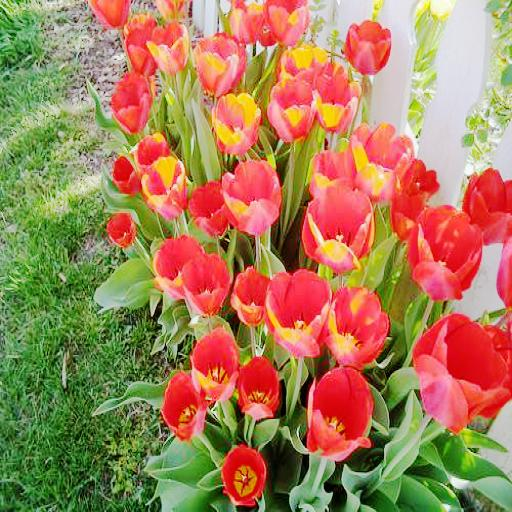tulip: (413, 310, 512, 433), (408, 204, 484, 300), (299, 180, 376, 272), (307, 363, 374, 460), (266, 270, 330, 358), (346, 120, 416, 199), (327, 284, 391, 366), (221, 157, 283, 233), (192, 27, 247, 96), (464, 166, 512, 244), (190, 322, 238, 399), (316, 60, 362, 135), (268, 75, 316, 145), (182, 251, 230, 317), (138, 154, 188, 217), (161, 372, 206, 438), (220, 445, 267, 507), (213, 92, 260, 154), (342, 20, 393, 76), (238, 356, 280, 418), (110, 72, 152, 132), (148, 19, 190, 75), (108, 212, 135, 248)
